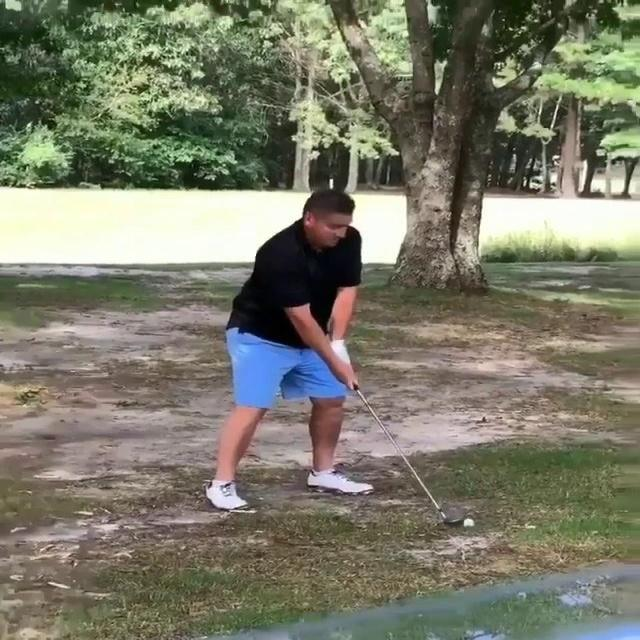golf ball: (463, 518, 474, 527)
golf club-handle: (323, 330, 466, 528)
golf club-head: (445, 518, 464, 525)
